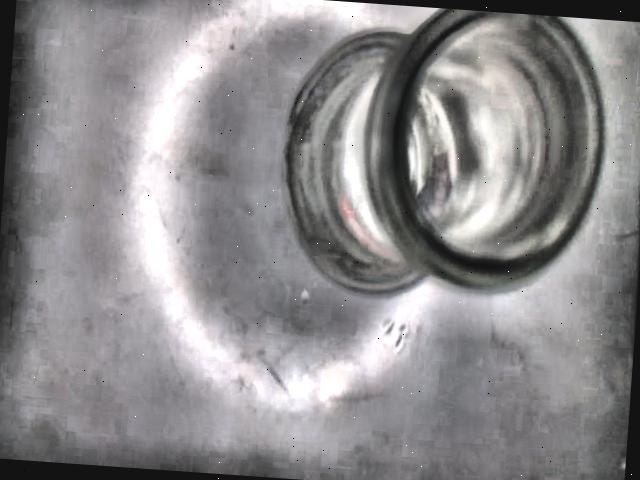Bottles: (281, 8, 605, 301)
